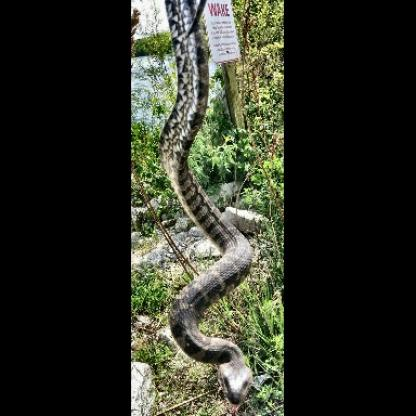Snake: (150, 11, 279, 405)
